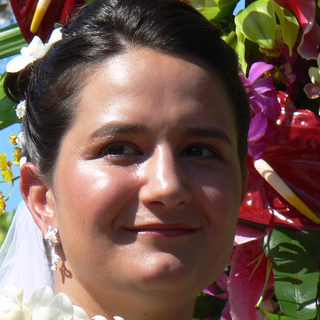eye: (91, 139, 144, 161), (175, 141, 222, 163)
